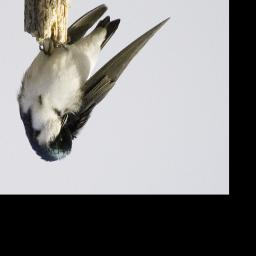Swallow: (15, 3, 170, 164)
